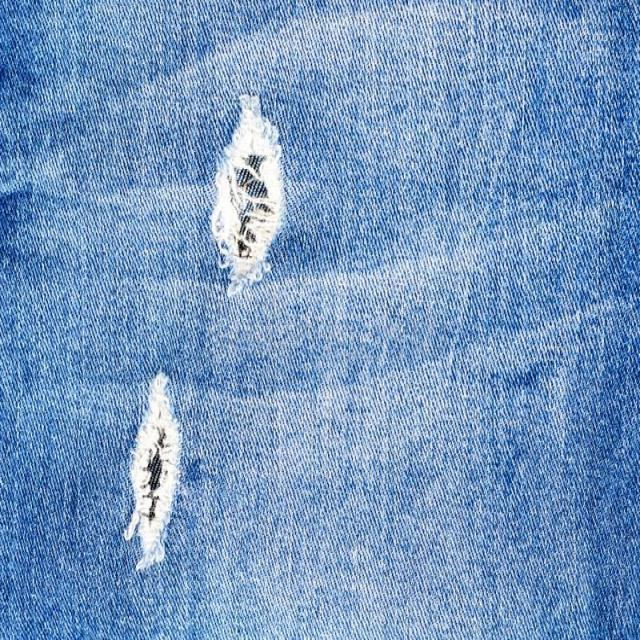Hole: (210, 94, 284, 296), (123, 373, 180, 573)
